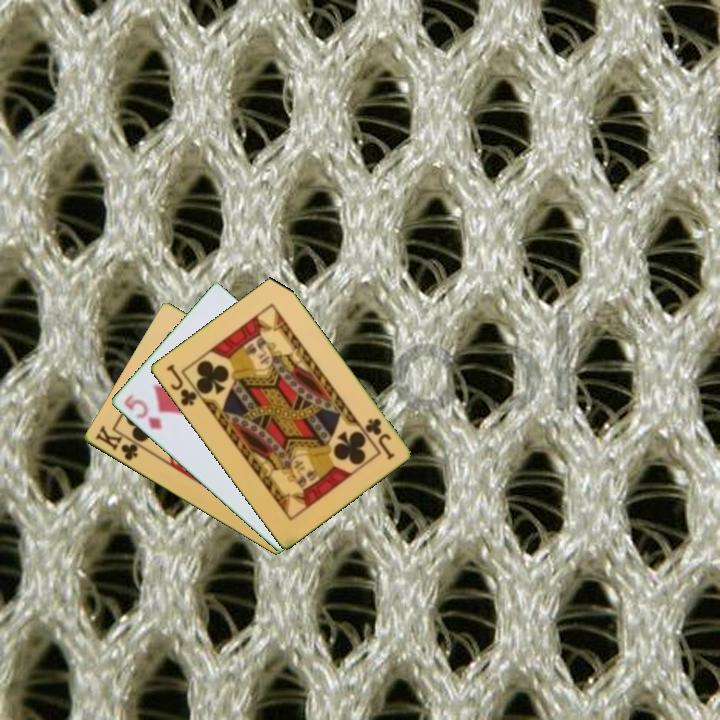5d: (120, 390, 165, 433)
Jc: (162, 360, 199, 409), (361, 414, 397, 463)
Kc: (91, 422, 147, 464)
